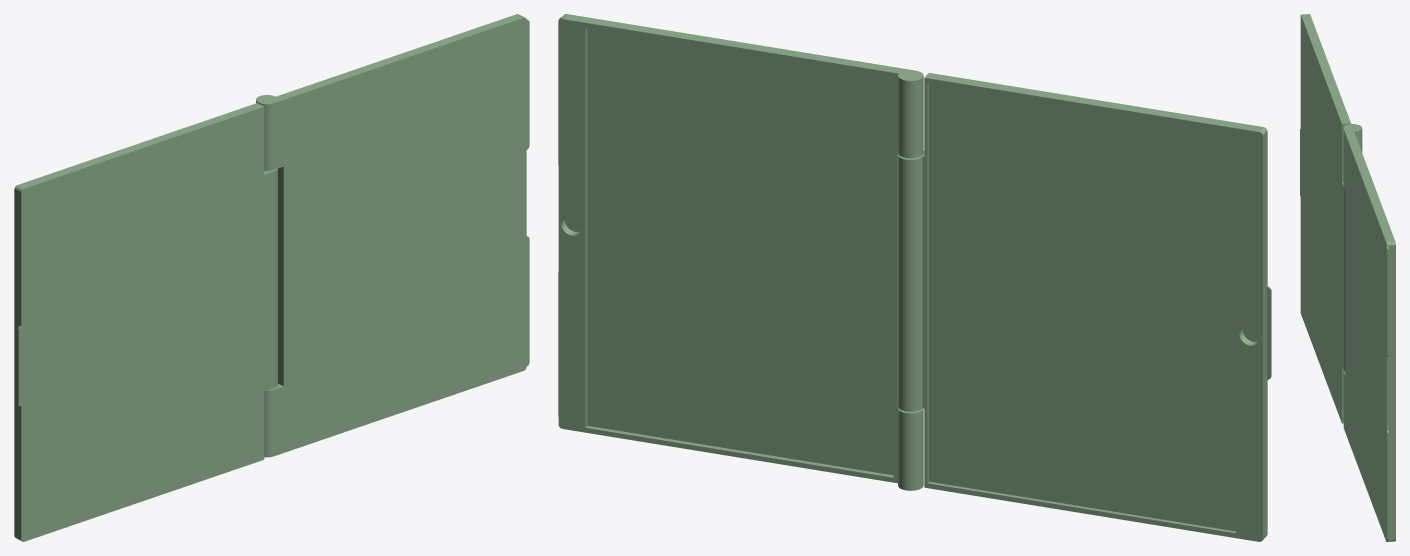
The model's file is top_loader_protector.glb.
The picture shows the model from 3 angles, left to right: view 1: azimuth 30°, elevation 25°; view 2: azimuth 150°, elevation 25°; view 3: azimuth 270°, elevation 25°; orthographic projection. The views are drawn at different scales.
Visible parts, largest first — view 1: V2 - Magnets\Top, V2 - Magnets\Bottom; view 2: V2 - Magnets\Top, V2 - Magnets\Bottom; view 3: V2 - Magnets\Bottom, V2 - Magnets\Top.
Boxes of the visible parts, x1,y1,x2,y2 form: V2 - Magnets\Top: (14,103,277,541); V2 - Magnets\Bottom: (256,14,529,457); V2 - Magnets\Top: (898,73,1271,541); V2 - Magnets\Bottom: (558,14,923,490); V2 - Magnets\Bottom: (1343,124,1395,541); V2 - Magnets\Top: (1300,14,1351,423).
Size of the model in its own units: 177 by 106 by 30.79.
